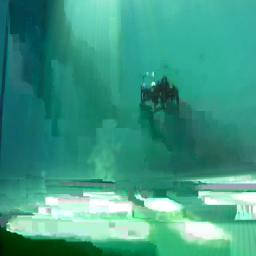front: (141, 77, 179, 108)
